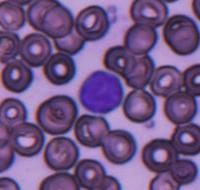L: (78, 70, 123, 114)
